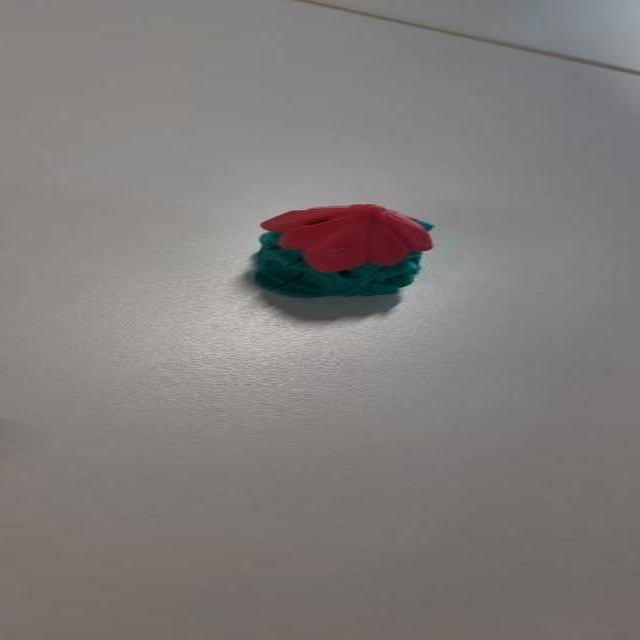House: (232, 198, 436, 305)
